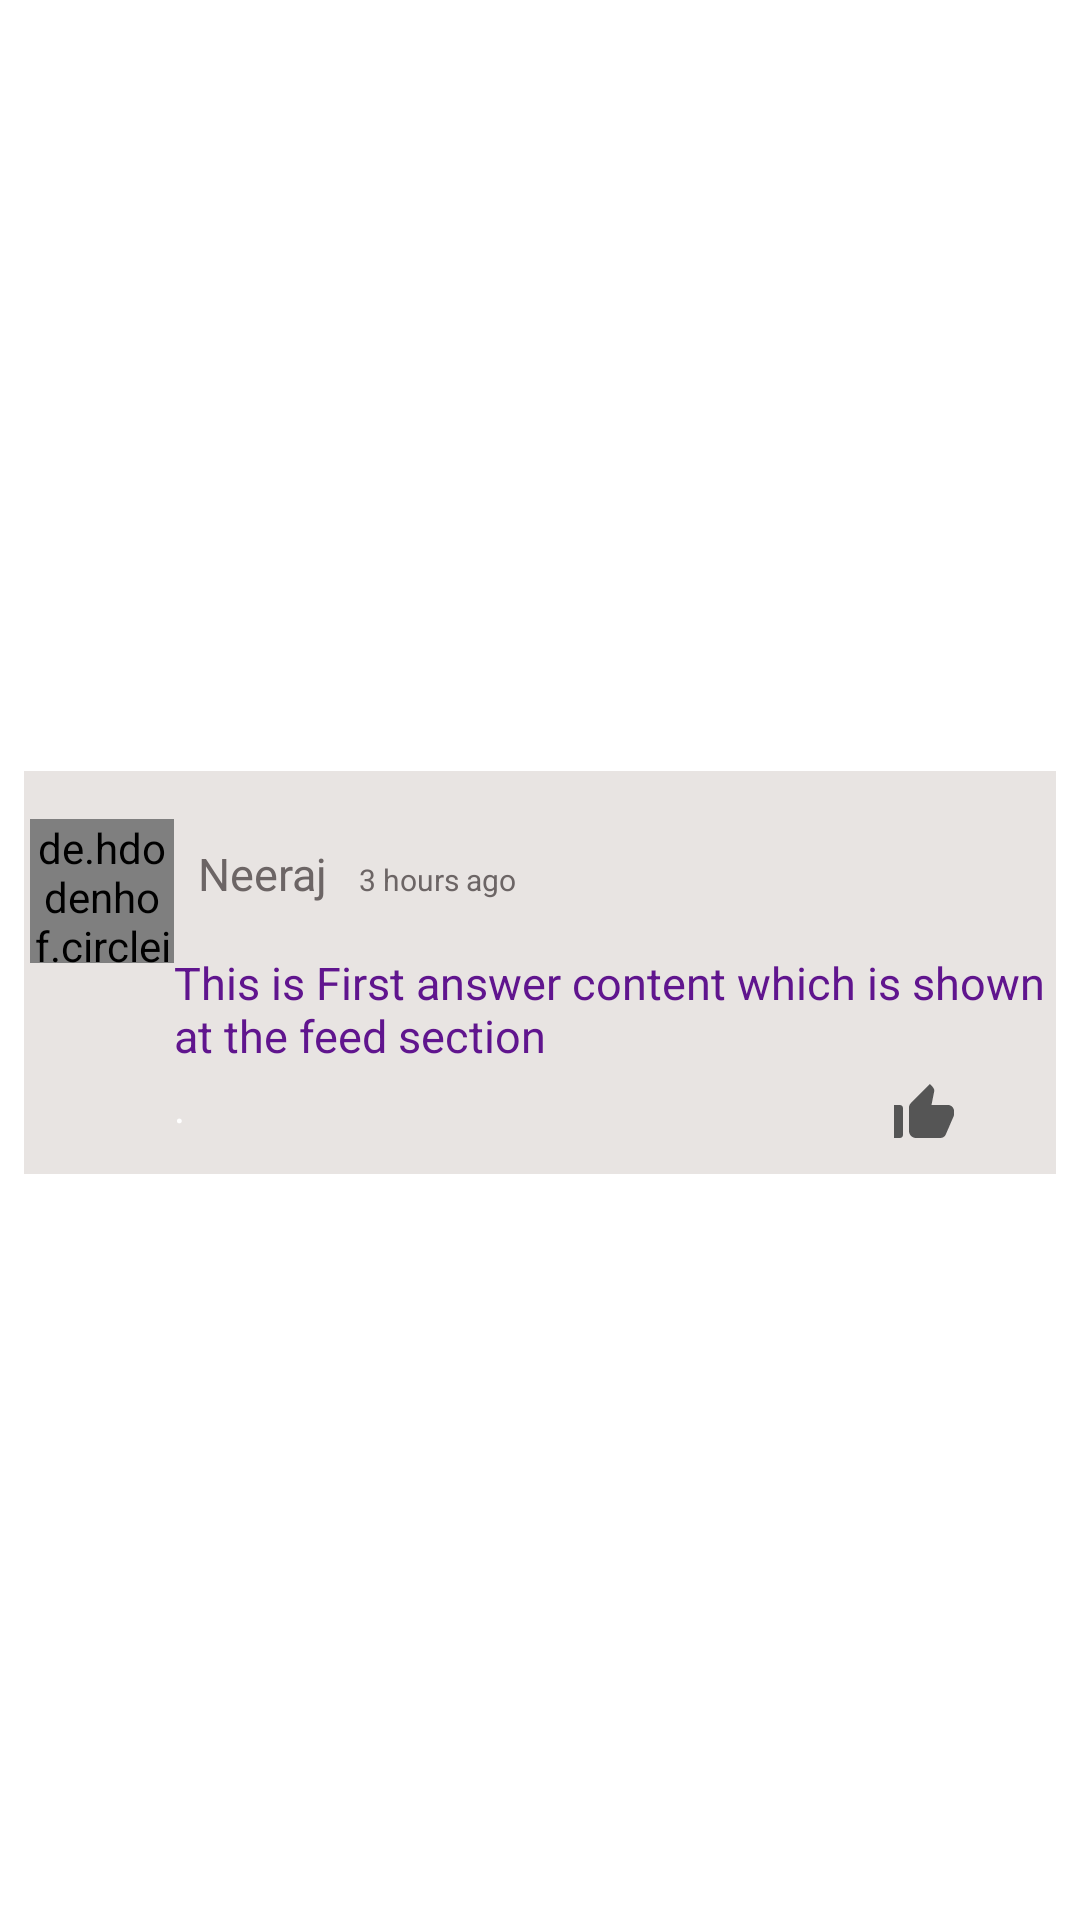

Where to tap for icons on this 1080w x 1920h app screen, as (x,y):
like: (924,1111)
